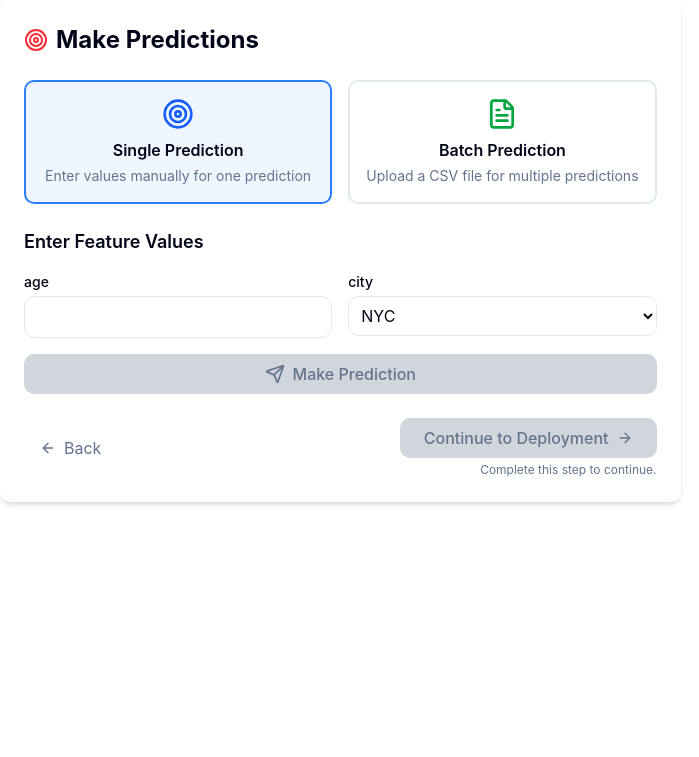
PredictPage — single prediction result › renders prediction value, confidence, and class probabilities
In the number field labelled "age": (178, 317) [24,296,332,338], type "42"
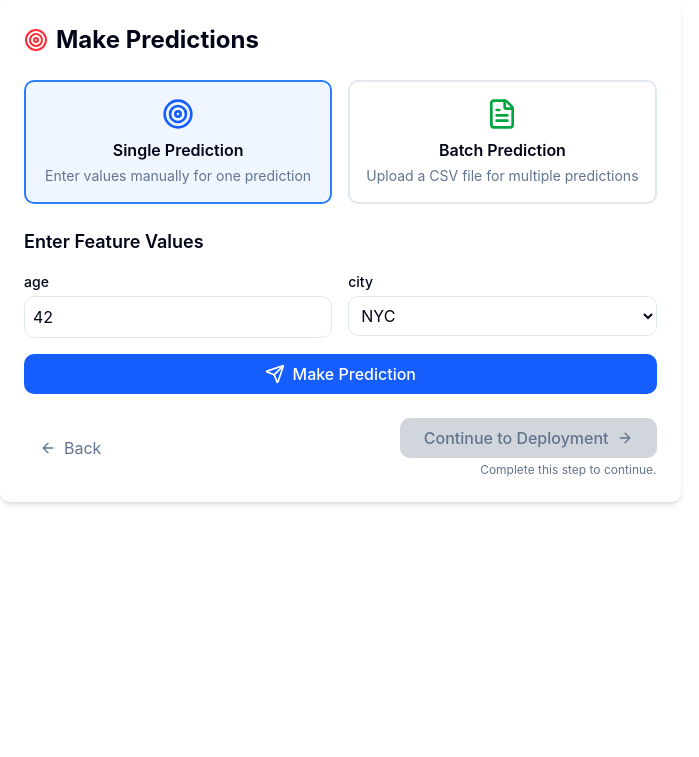
Click the button with test id "make-prediction": (340, 374) [24,354,656,394]
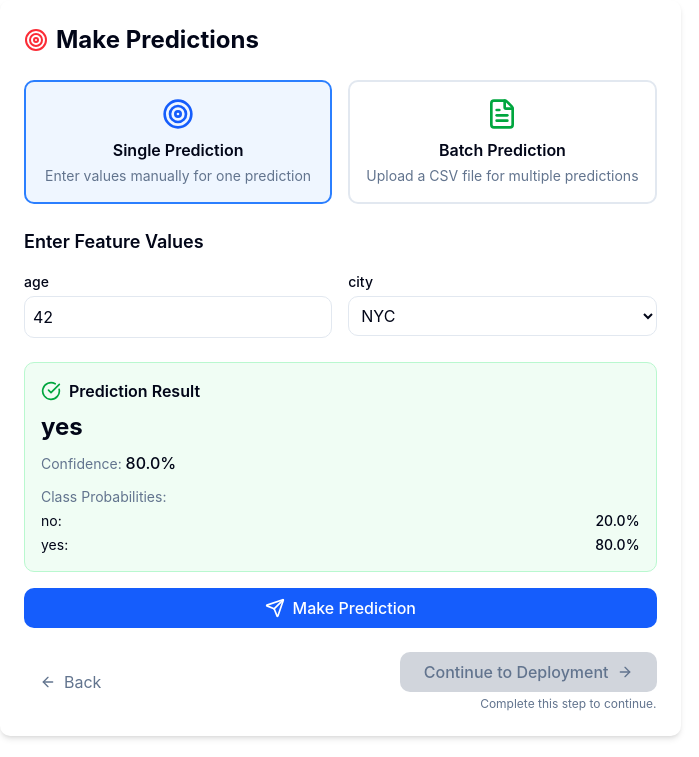
Expected: the element with test id "prediction-result" is shown, [24,362,656,572]
Expected: the text with test id "prediction-value" reads "yes", [41,412,83,441]
Expected: the text with test id "confidence-score" reads "80.0%", [126,453,176,473]
